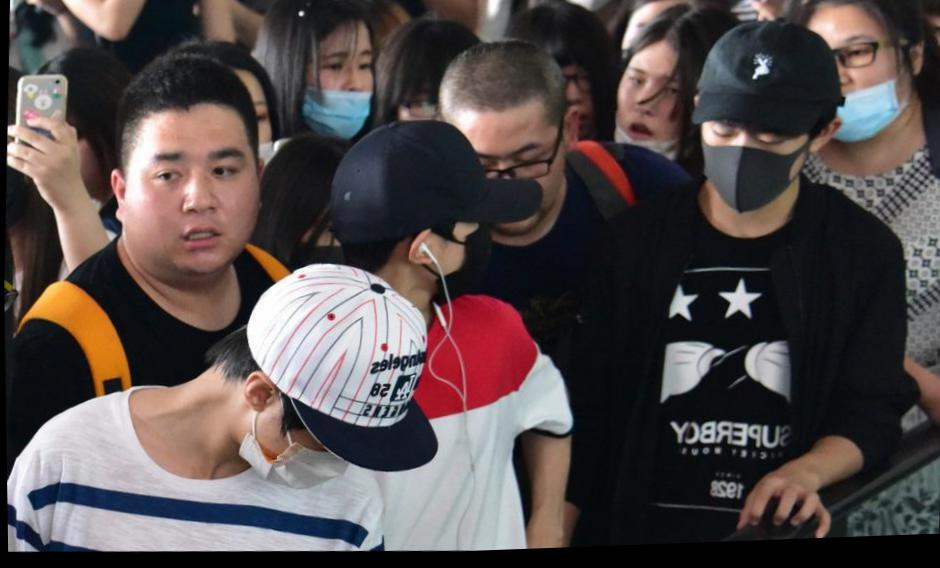NONE: (132, 132, 263, 270), (453, 135, 570, 241), (523, 60, 608, 150)
OK: (699, 110, 810, 226), (237, 406, 359, 495), (425, 199, 500, 313)
WRONG: (791, 29, 903, 154), (607, 57, 698, 180), (295, 47, 380, 152)
